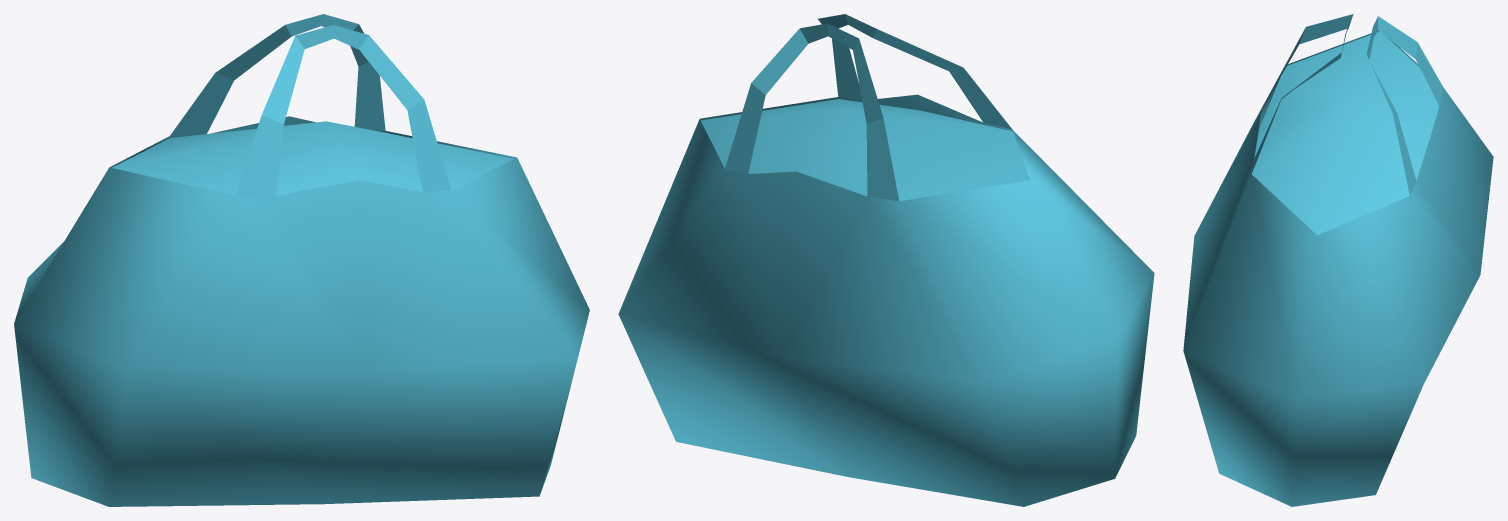
File: paramedics_bag.obj
The picture shows the model from 3 angles, left to right: view 1: azimuth 30°, elevation 25°; view 2: azimuth 150°, elevation 25°; view 3: azimuth 270°, elevation 25°; orthographic projection. The views are drawn at different scales.
Visible parts, largest first — view 1: Sphere02; view 2: Sphere02; view 3: Sphere02.
Part boxes in pixels (box(x1,y1,x2,y2)): Sphere02: box(14, 14, 589, 506); Sphere02: box(618, 14, 1154, 506); Sphere02: box(1183, 14, 1493, 506).
Size of the model in its own units: 20.34 by 17.11 by 11.93.
